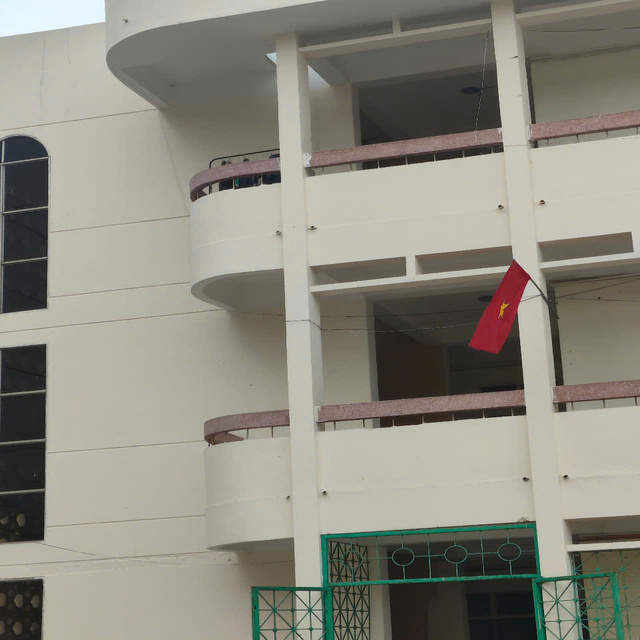laco: (468, 258, 537, 353)
